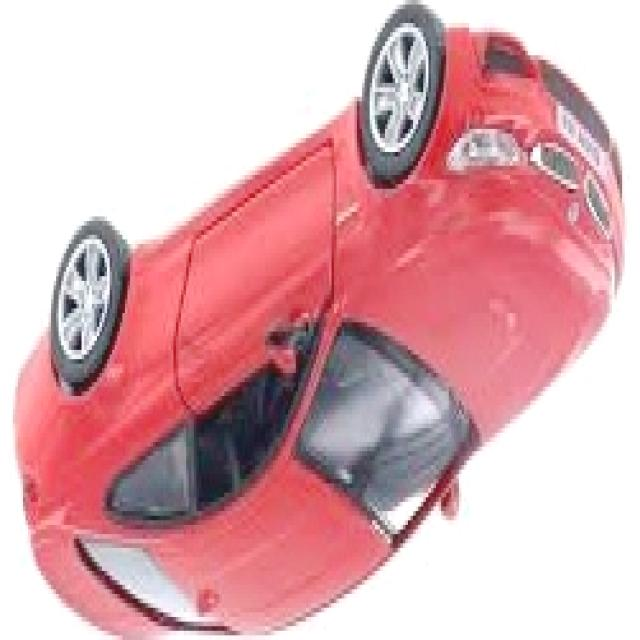red: (17, 26, 628, 638)
